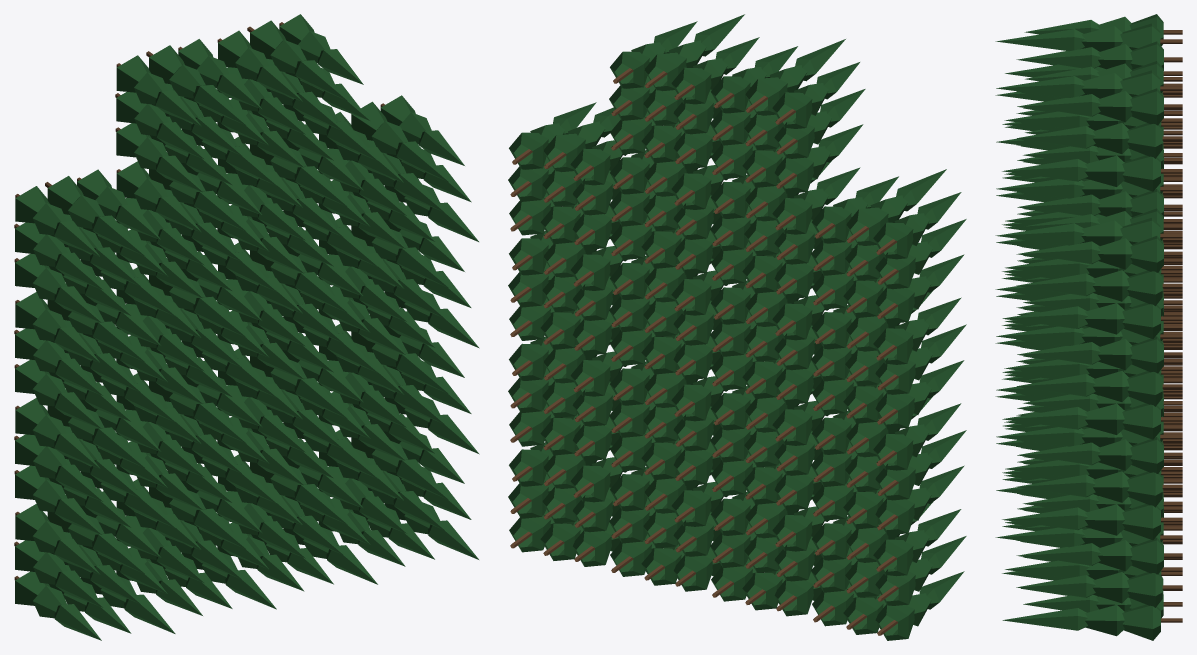
File: construction_1.glb
3 renders of one model, left to right at view 1: azimuth 30°, elevation 25°; view 2: azimuth 150°, elevation 25°; view 3: azimuth 270°, elevation 25°, orthographic. The views are drawn at different scales.
Visible parts, largest first — view 1: t14_g16.001, t03_g16.001, t01_g16.001, t00_g16.001, t02_g16.001, t24_g16.001, t33_g16.001, t13_g16.001, t31_g16.001, t30_g16.001, t10_g16.001, t20_g16.001 (+6 smaller); view 2: t14_g16.001, t03_g16.001, t24_g16.001, t02_g16.001, t00_g16.001, t01_g16.001, t33_g16.001, t13_g16.001, t31_g16.001, t11_g16.001, t32_g16.001, t20_g16.001 (+6 smaller); view 3: t33_g16.001, t24_g16.001, t31_g16.001, t32_g16.001, t30_g16.001, t14_g16.001, t23_g16.001, t21_g16.001, t20_g16.001, t22_g16.001, t13_g16.001, t10_g16.001 (+6 smaller).
Boxes of the visible parts, x1,y1,x2,y2 form: t14_g16.001: (115,39,276,192); t03_g16.001: (14,169,175,322); t01_g16.001: (14,382,175,534); t00_g16.001: (14,488,175,640); t02_g16.001: (14,276,175,428); t24_g16.001: (217,14,377,167); t33_g16.001: (318,95,478,248); t13_g16.001: (116,145,276,297); t31_g16.001: (318,308,479,460); t30_g16.001: (318,414,478,566); t10_g16.001: (116,463,276,615); t20_g16.001: (217,438,377,591); t14_g16.001: (710,39,865,193); t03_g16.001: (811,169,966,323); t24_g16.001: (609,14,759,169); t02_g16.001: (811,290,966,429); t00_g16.001: (811,502,966,640); t01_g16.001: (811,396,966,535); t33_g16.001: (508,102,627,249); t13_g16.001: (710,161,860,299); t31_g16.001: (508,336,631,461); t11_g16.001: (710,386,832,510); t32_g16.001: (508,231,627,355); t20_g16.001: (609,467,731,591); t33_g16.001: (995,208,1182,338); t24_g16.001: (996,61,1182,191); t31_g16.001: (996,416,1182,540); t32_g16.001: (996,315,1182,439); t30_g16.001: (995,517,1182,640); t14_g16.001: (995,14,1182,131); t23_g16.001: (996,168,1182,278); t21_g16.001: (996,374,1182,479); t20_g16.001: (996,475,1182,580); t22_g16.001: (995,274,1182,379); t13_g16.001: (996,126,1182,229); t10_g16.001: (996,432,1182,531).
Size of the model in its own units: 63.63 by 80.4 by 27.04.
